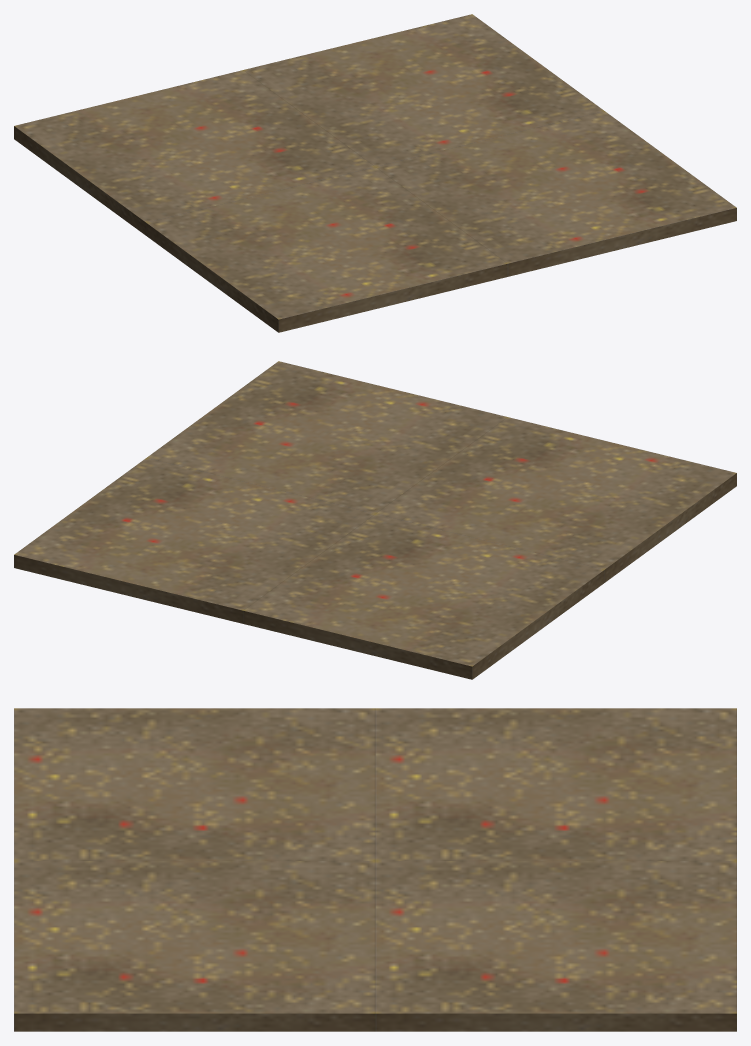
File: ground_midway.fbx
3 renders of one model, top to bottom at view 1: azimuth 30°, elevation 25°; view 2: azimuth 150°, elevation 25°; view 3: azimuth 270°, elevation 25°, orthographic. The views are drawn at different scales.
Visible parts, largest first — view 1: ground_midway; view 2: ground_midway; view 3: ground_midway.
Part boxes in pixels (x1,y1,x2,y2): ground_midway: [14, 14, 736, 332]; ground_midway: [14, 361, 736, 679]; ground_midway: [14, 708, 736, 1031].
Bounding box in the file's own units: 4 × 0.11 × 4.
Materials: 1 (1 with a texture image).
